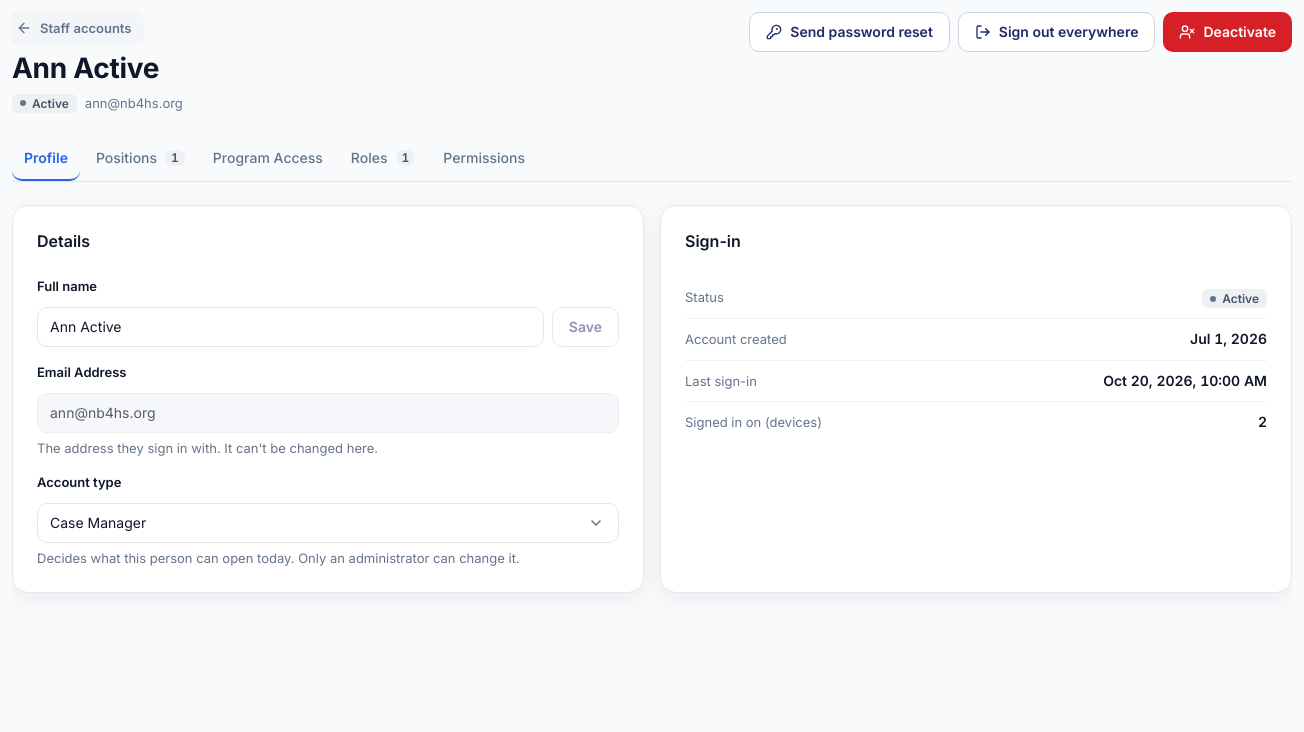
Test: One account › says roles don't change access yet, and only removes hand-given roles
This screenshot has width=1304, height=732.
Check: the heading "Ann Active" is shown, box [12, 52, 183, 86]
Step 1. Click the tab "Roles 1" → (383, 159), box [339, 137, 427, 181]
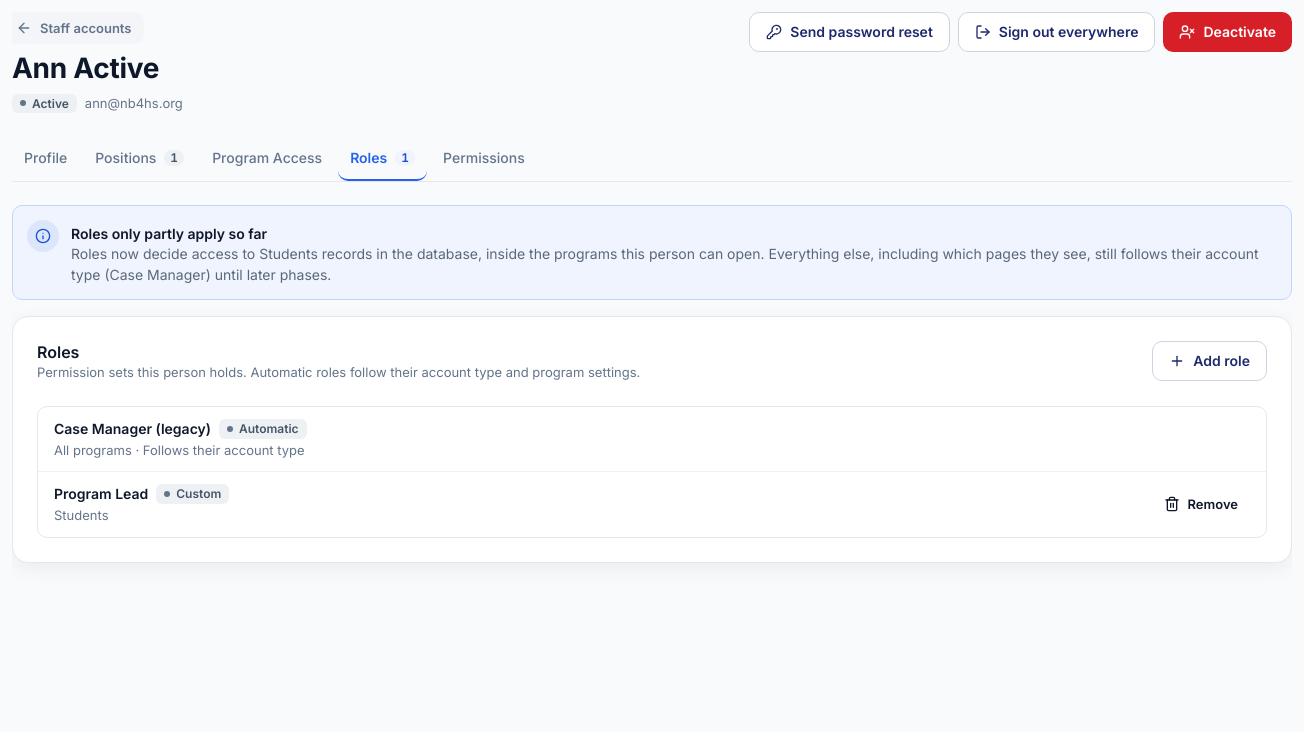
Check: the text "Roles only partly apply so far" is shown, box [71, 225, 267, 242]
Check: the number of buttons "Remove" is 1, box [1152, 488, 1250, 520]
